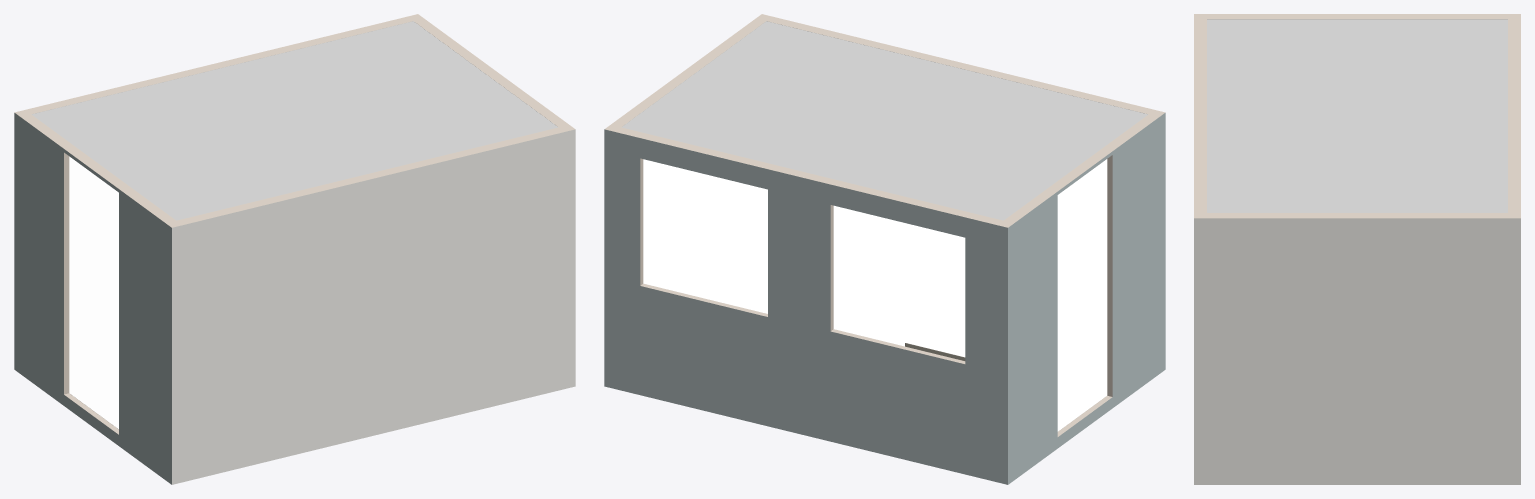
3 views of the same model, side by side, from view 1: azimuth 30°, elevation 25°; view 2: azimuth 150°, elevation 25°; view 3: azimuth 270°, elevation 25° (orthographic). The views are drawn at different scales.
Parts seen in each view (by area): view 1: Wall_0, Ceiling_Room, Wall_2, Door_0, Wall_1, Wall_3; view 2: Wall_1, Ceiling_Room, Wall_2, Window_1, Window_0, Door_0, Wall_0, Wall_3; view 3: Wall_3, Ceiling_Room, Wall_0, Wall_1, Wall_2.
Boxes of the visible parts, x1=… form: Wall_0: x1=172, y1=127, x2=575, y2=484; Ceiling_Room: x1=31, y1=21, x2=558, y2=220; Wall_2: x1=14, y1=112, x2=176, y2=484; Door_0: x1=69, y1=156, x2=118, y2=428; Wall_1: x1=14, y1=14, x2=417, y2=114; Wall_3: x1=414, y1=14, x2=574, y2=129; Wall_1: x1=604, y1=127, x2=1007, y2=484; Ceiling_Room: x1=621, y1=21, x2=1148, y2=220; Wall_2: x1=1003, y1=112, x2=1165, y2=484; Window_1: x1=833, y1=205, x2=965, y2=357; Window_0: x1=643, y1=159, x2=767, y2=313; Door_0: x1=1057, y1=159, x2=1107, y2=431; Wall_0: x1=762, y1=14, x2=1165, y2=114; Wall_3: x1=605, y1=14, x2=765, y2=129; Wall_3: x1=1194, y1=213, x2=1520, y2=484; Ceiling_Room: x1=1207, y1=19, x2=1507, y2=212; Wall_0: x1=1194, y1=14, x2=1206, y2=217; Wall_1: x1=1508, y1=14, x2=1520, y2=217; Wall_2: x1=1194, y1=14, x2=1520, y2=19.
Bounding box in the file's own units: 3.77 × 2.29 × 2.55.
Materials: 9 (2 with a texture image).
